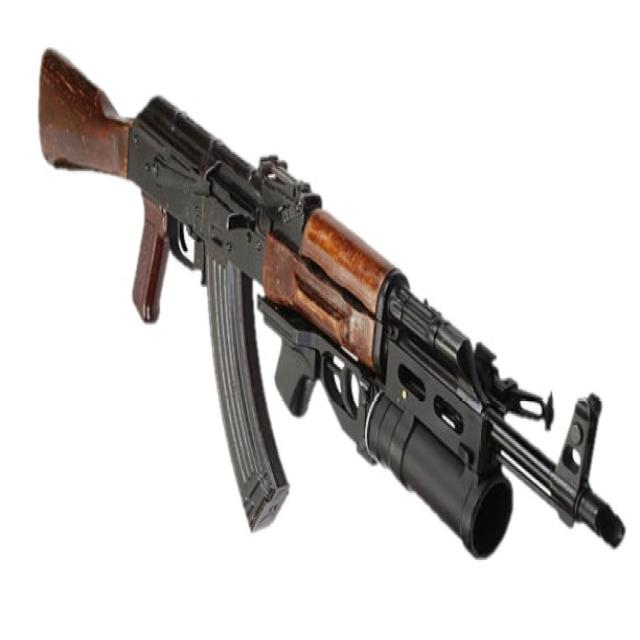rifle: (31, 23, 634, 570)
